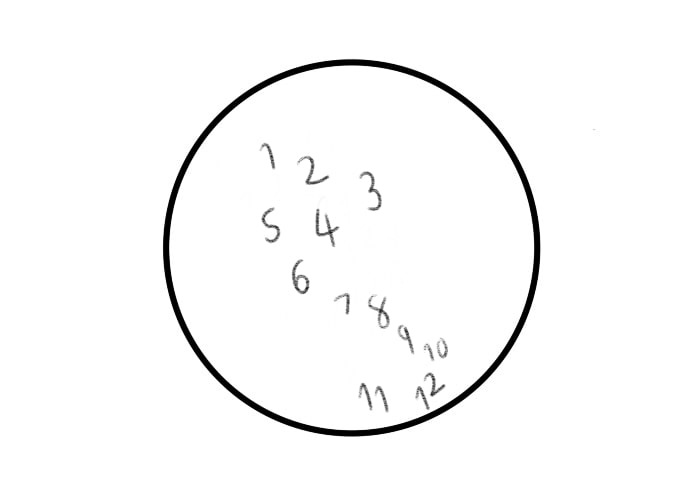eight: (367, 289, 392, 332)
eleven: (358, 378, 391, 414)
five: (260, 206, 280, 244)
four: (311, 207, 341, 249)
nine: (396, 323, 415, 358)
one: (257, 138, 280, 176)
seven: (332, 287, 354, 318)
six: (290, 257, 314, 298)
ten: (423, 334, 451, 366)
three: (359, 168, 383, 211)
twelve: (412, 369, 444, 409)
two: (296, 152, 330, 185)
